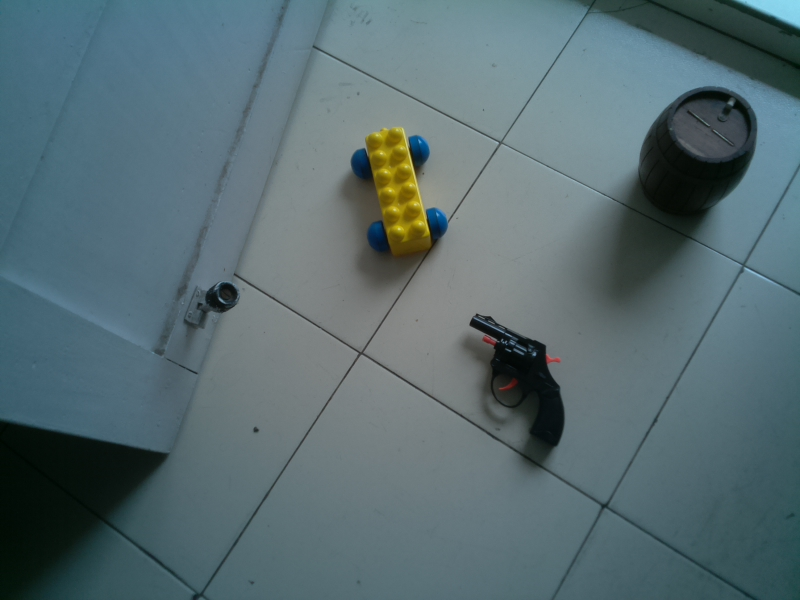Gun: (458, 306, 572, 456)
toy_Car: (344, 123, 451, 266)
